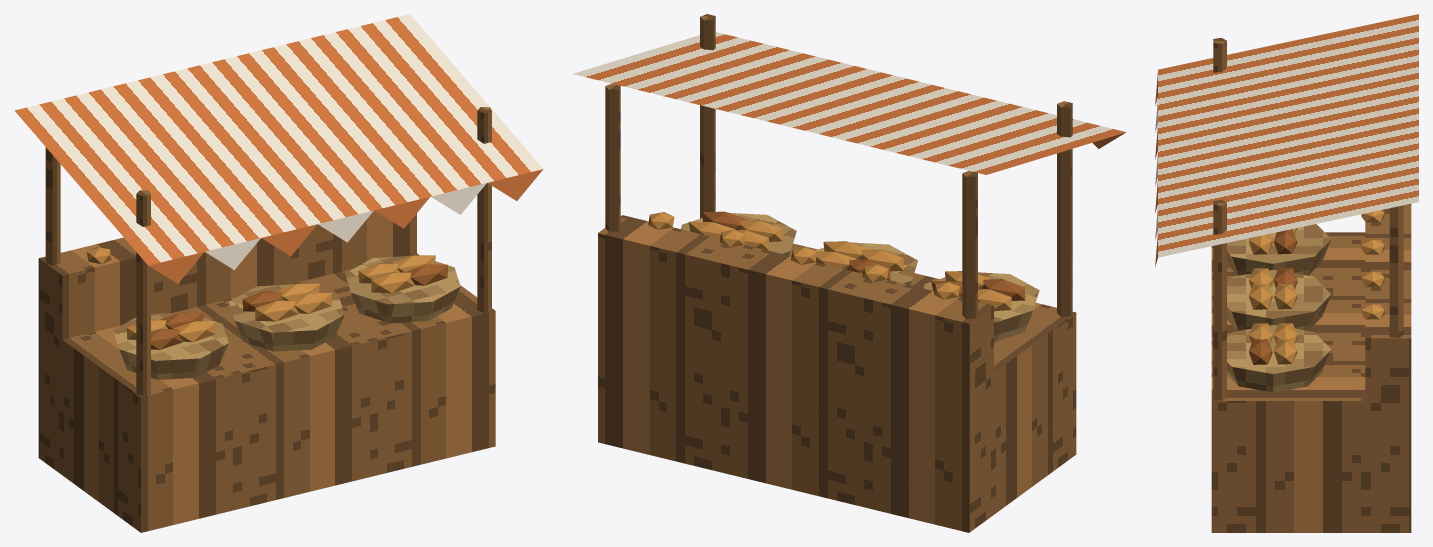
Rendered from stall_bread.glb.
The picture shows the model from 3 angles, left to right: view 1: azimuth 30°, elevation 25°; view 2: azimuth 150°, elevation 25°; view 3: azimuth 270°, elevation 25°; orthographic projection. The views are drawn at different scales.
Parts seen in each view (by area): view 1: stall_bread; view 2: stall_bread; view 3: stall_bread.
Part boxes in pixels (x1,y1,x2,y2): stall_bread: (14, 14, 543, 532); stall_bread: (573, 14, 1126, 532); stall_bread: (1155, 14, 1418, 532).
Size of the model in its own units: 2.9 by 2.45 by 1.72.
7 materials, 3 textured.
